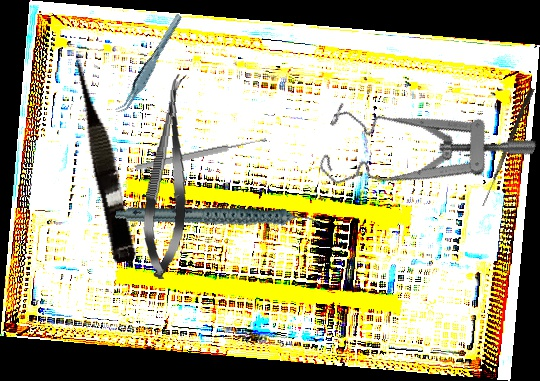Handpiece: (114, 167, 322, 270)
Hook Surgical: (482, 86, 535, 209)
Micro Scissor: (67, 52, 142, 264), (139, 71, 197, 281)
Speculum: (309, 63, 539, 250)
Surgical Spoon: (134, 136, 268, 172)
Tissue Forceps: (106, 13, 194, 116)
